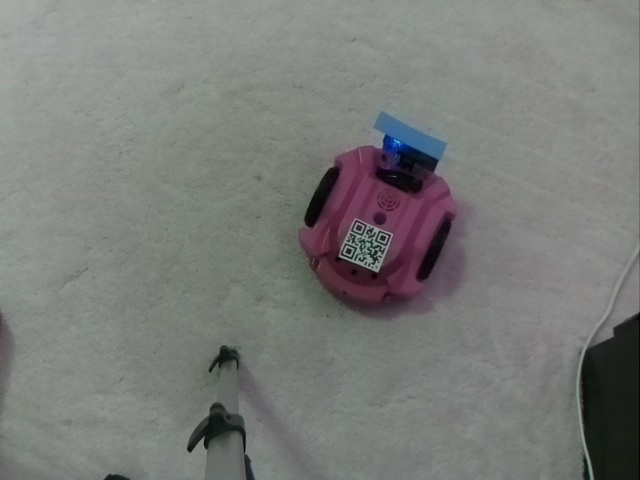chassis: (290, 108, 451, 305)
qr: (340, 212, 401, 278)
